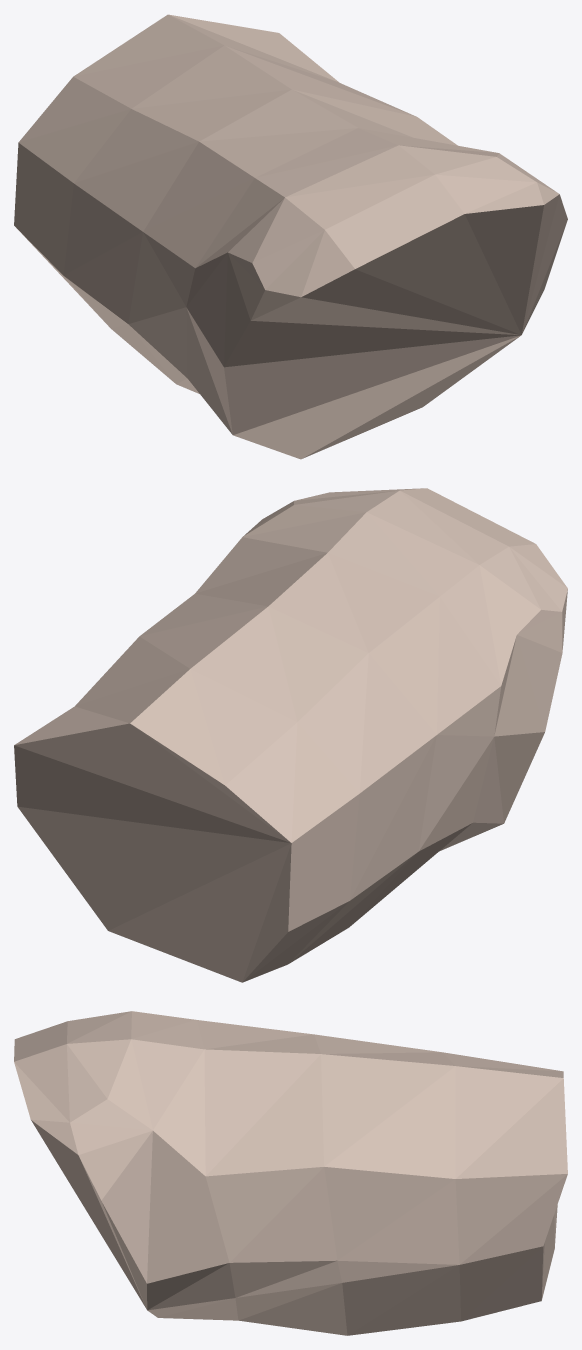
The model's file is LMiddle2ndPhalange.dae.
The picture shows the model from 3 angles, top to bottom: view 1: azimuth 30°, elevation 25°; view 2: azimuth 150°, elevation 25°; view 3: azimuth 270°, elevation 25°; orthographic projection. The views are drawn at different scales.
Parts seen in each view (by area): view 1: ShapeIndexedFaceSet; view 2: ShapeIndexedFaceSet; view 3: ShapeIndexedFaceSet.
Boxes of the visible parts, x1,y1,x2,y2 form: ShapeIndexedFaceSet: [14, 14, 567, 459]; ShapeIndexedFaceSet: [14, 488, 567, 982]; ShapeIndexedFaceSet: [14, 1011, 567, 1335].
Size of the model in its own units: 0.0187 by 0.0293 by 0.0164.
